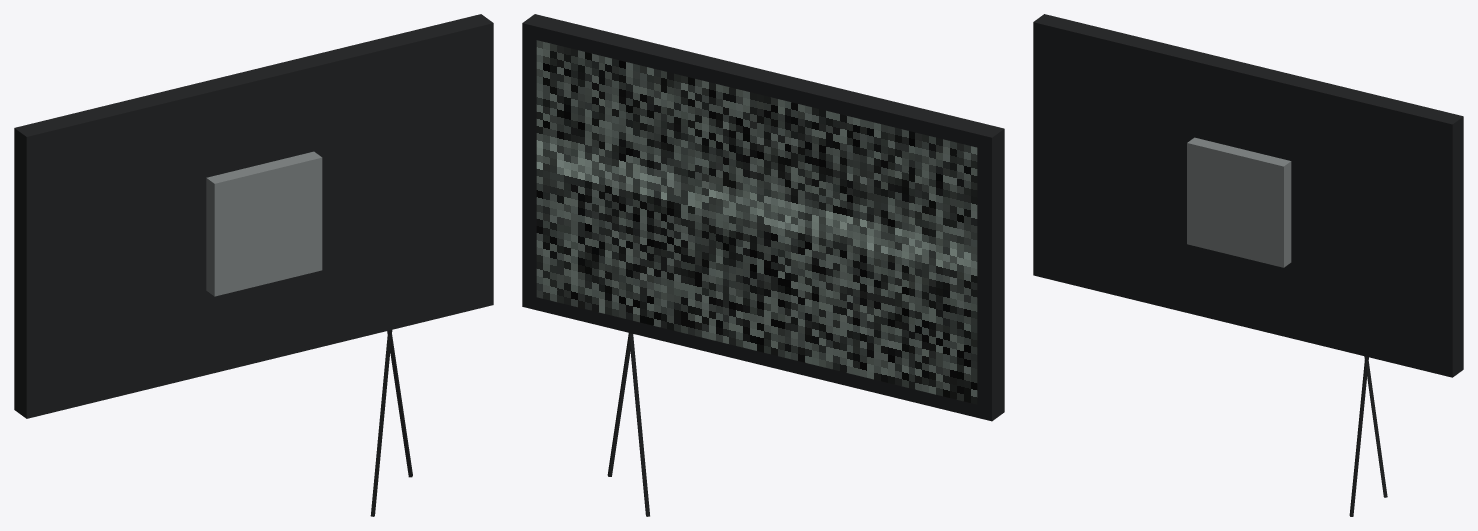
Rendered from tv_noise.fbx.
3 renders of one model, left to right at view 1: azimuth 30°, elevation 25°; view 2: azimuth 150°, elevation 25°; view 3: azimuth 330°, elevation 25°, orthographic. The views are drawn at different scales.
Parts seen in each view (by area): view 1: tv_noise; view 2: tv_noise; view 3: tv_noise.
Part boxes in pixels (x1=…): tv_noise: x1=14, y1=14, x2=493, y2=516; tv_noise: x1=522, y1=14, x2=1004, y2=516; tv_noise: x1=1033, y1=14, x2=1463, y2=516.
Bounding box in the file's own units: 1.3 × 1.24 × 0.101.
